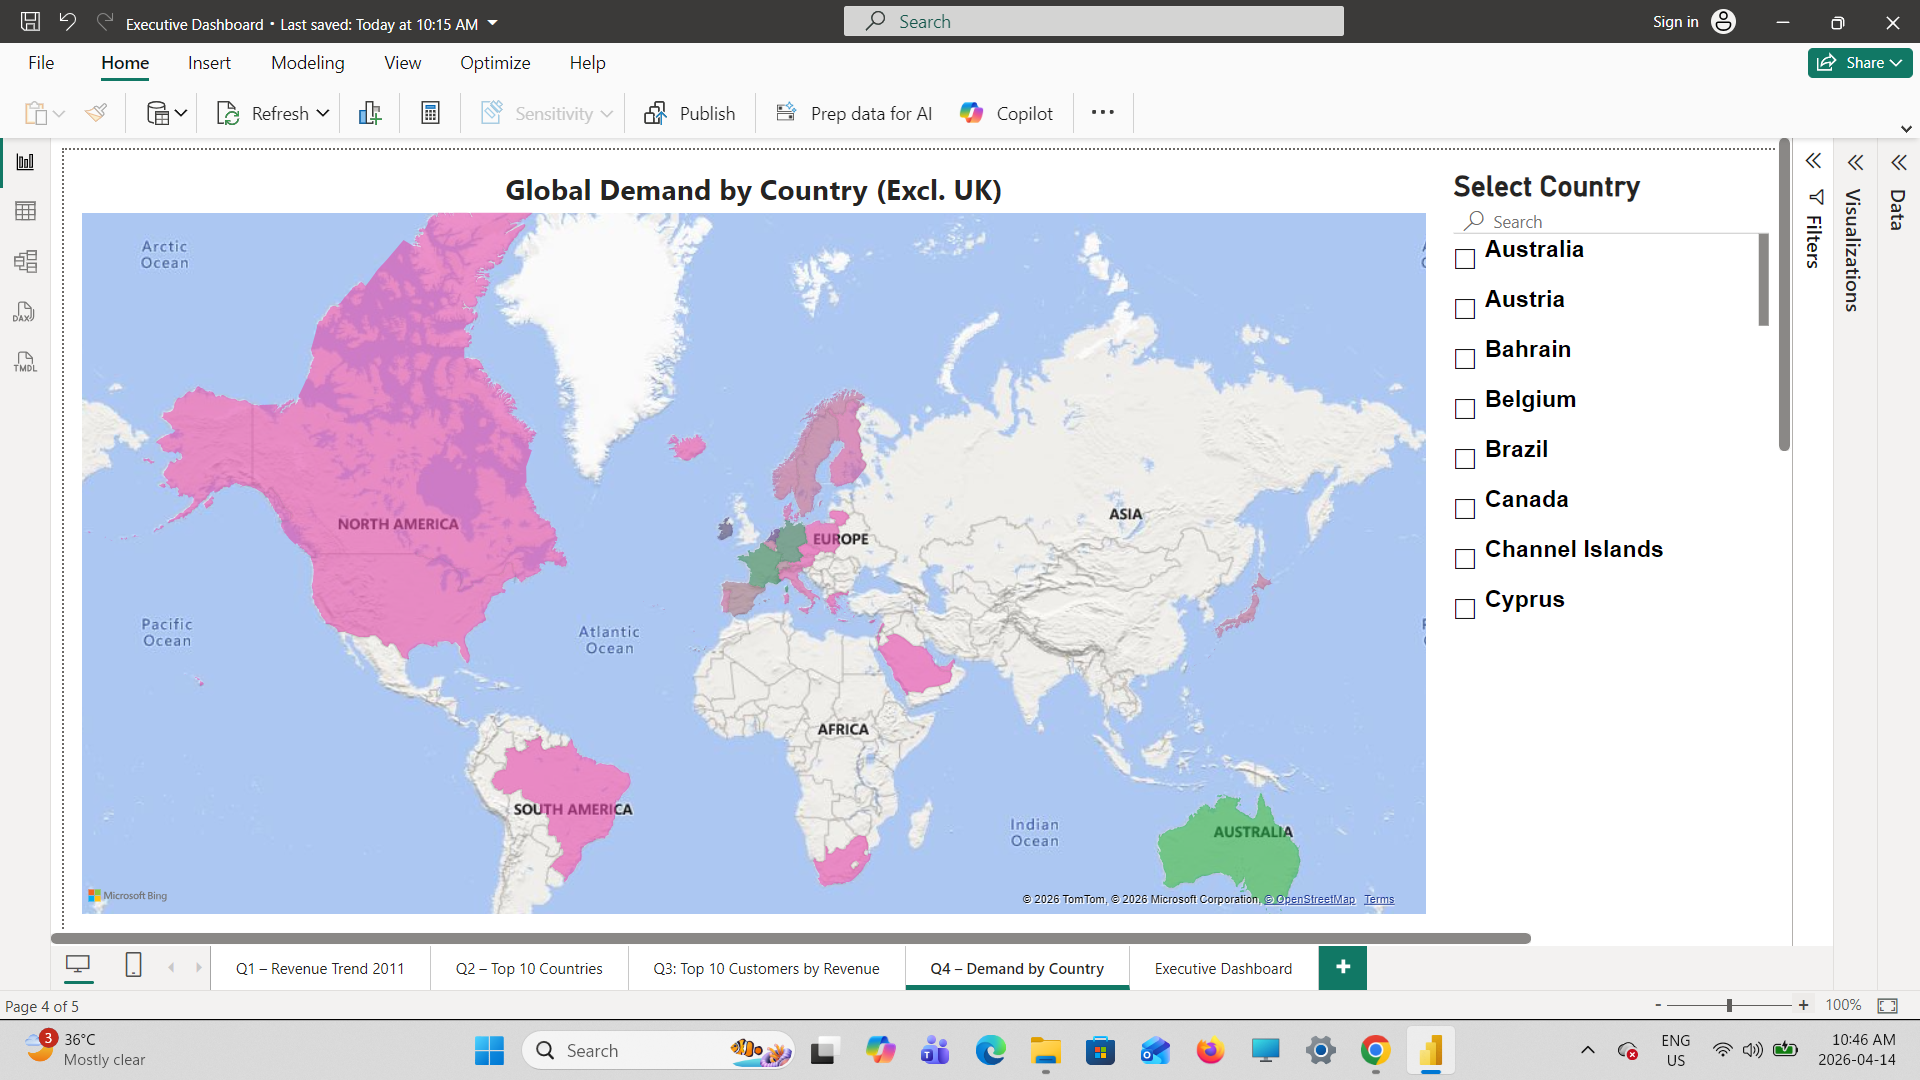

What the dashboard file says about the page in this screenshot:
{"tool":"powerbi","page":{"name":"Q4 – Demand by Country","canvas":[1600,1600],"ordinal":3},"visuals":[{"type":"filledMap","title":"Global Demand by Country (Excl. UK)","fields":{"Category":["Online Retail.Country"]},"box":[10,15,1085,601],"z":0},{"type":"listSlicer","title":"Select Country","fields":{"Values":["Online Retail.Country"]},"box":[1107,15,262,377],"z":1000}]}

Visuals, with their boxes on the page's 1600x1600 design canvas (x1, y1, x2, y2). These are canvas units, not pixel positions in the 1920x1080 screenshot, which may show the page scaled, cropped or inside an application window:
"Global Demand by Country (Excl. UK)" filledMap: (left=10, top=15, right=1095, bottom=616)
"Select Country" listSlicer: (left=1107, top=15, right=1369, bottom=392)
